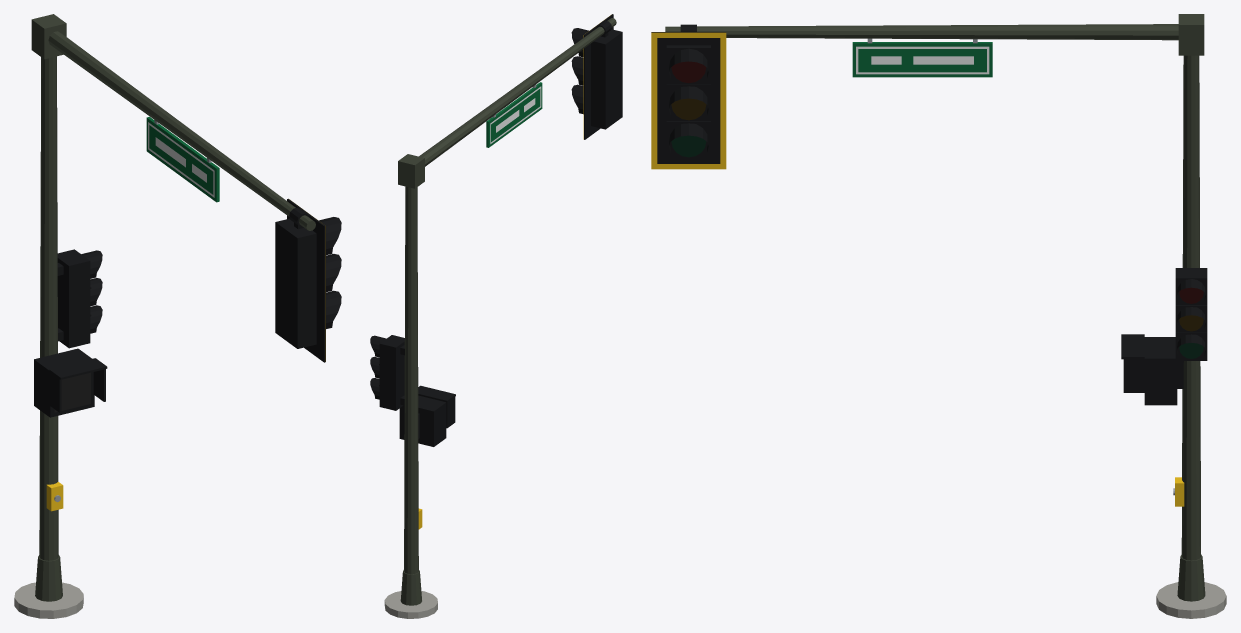
File: traffic-signal.glb
3 views of the same model, side by side, from view 1: azimuth 30°, elevation 25°; view 2: azimuth 150°, elevation 25°; view 3: azimuth 270°, elevation 25° (orthographic). The views are drawn at different scales.
Parts seen in each view (by area): view 1: traffic-signal; view 2: traffic-signal; view 3: traffic-signal.
Part boxes in pixels (x1=…): traffic-signal: x1=14, y1=14, x2=341, y2=618; traffic-signal: x1=370, y1=14, x2=622, y2=618; traffic-signal: x1=651, y1=14, x2=1226, y2=618.
Bounding box in the file's own units: 0.81 × 5.52 × 4.92.
